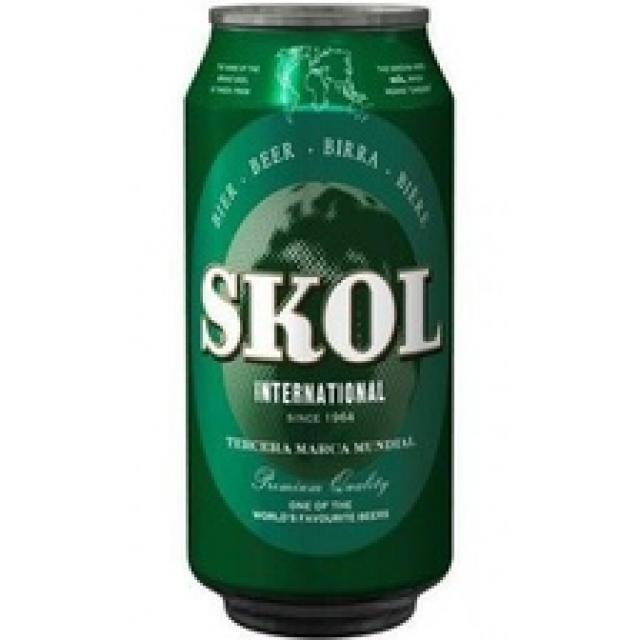recyclable: (182, 4, 453, 639)
